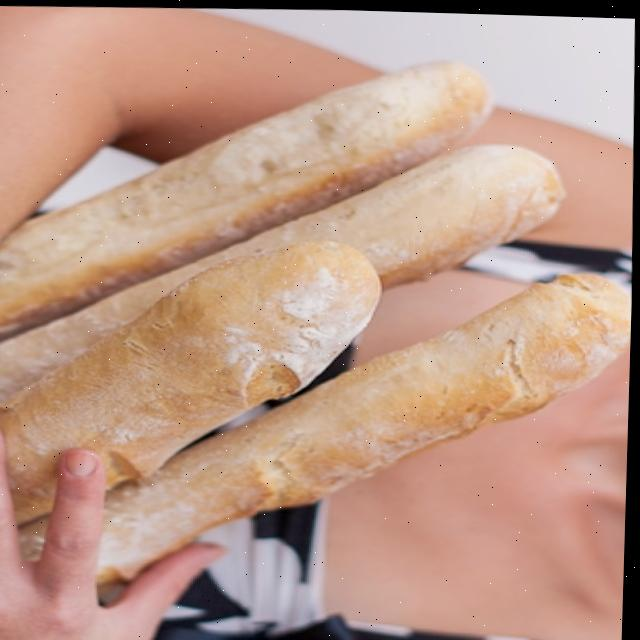面包点心: (0, 28, 639, 640)
